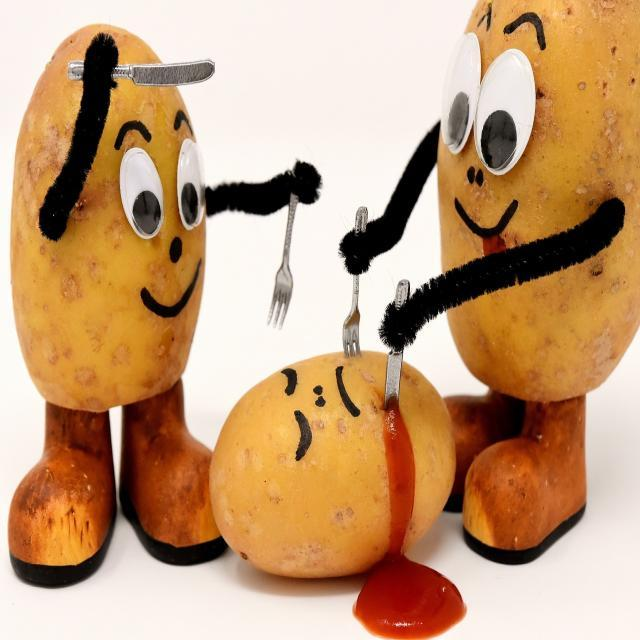Knife: (112, 59, 215, 86), (388, 350, 402, 406), (394, 280, 410, 307), (68, 62, 84, 80)
